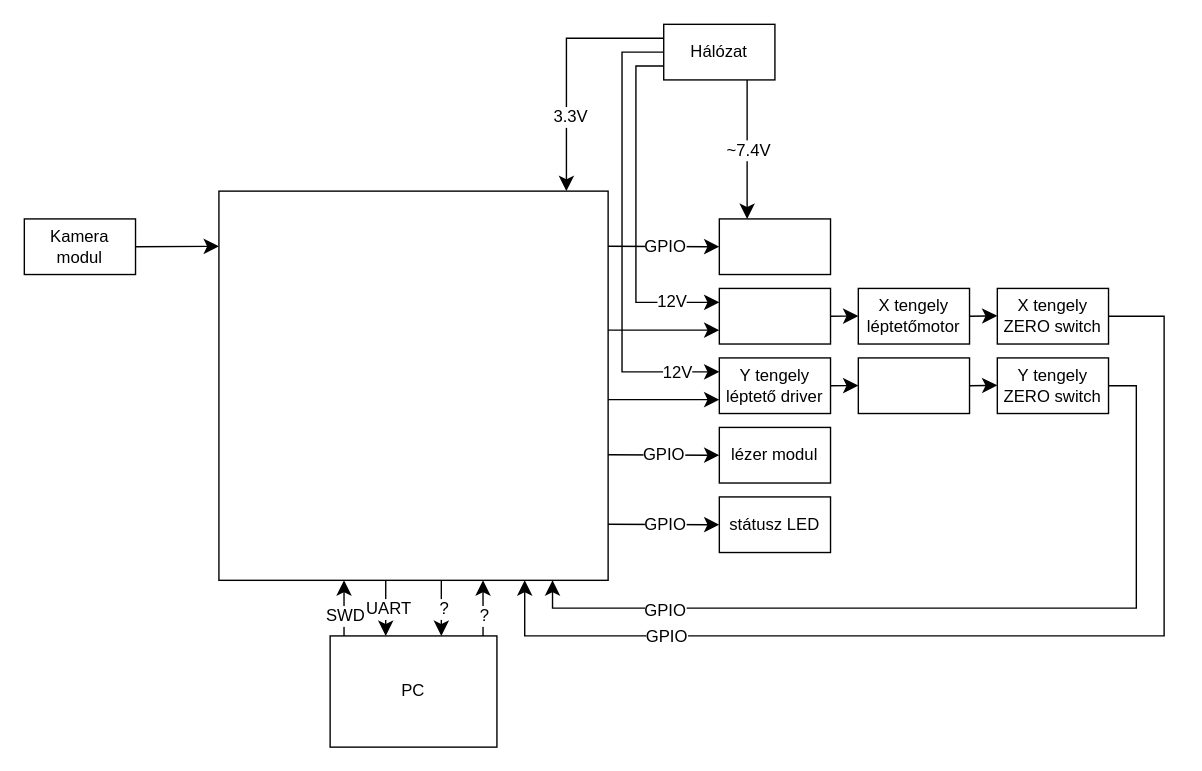
This 1202x771 diagram has some shape labels left out. The box of each missing label's shape, as (x1, y1, x2, y2) in pixels:
Gearbox: (718, 218, 831, 275)
Mikrokontroller: (218, 190, 608, 580)
X tengely léptető driver: (718, 287, 831, 344)
Y tengely léptetőmotor: (857, 357, 970, 414)
